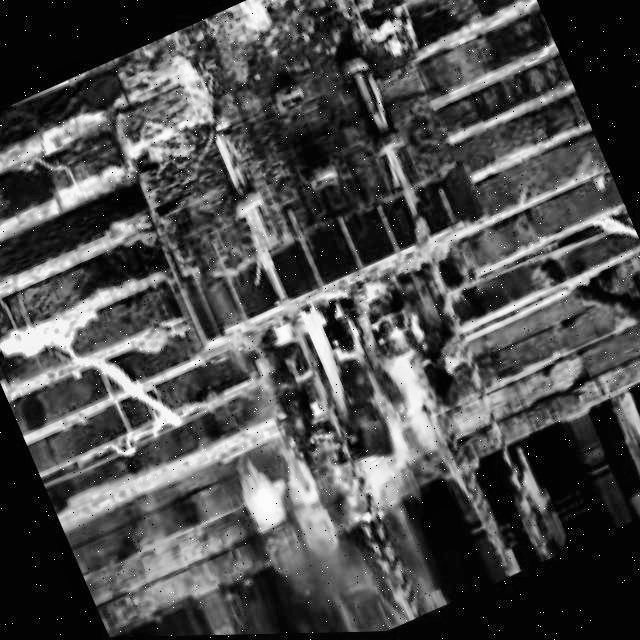Fire: (280, 272, 470, 513)
